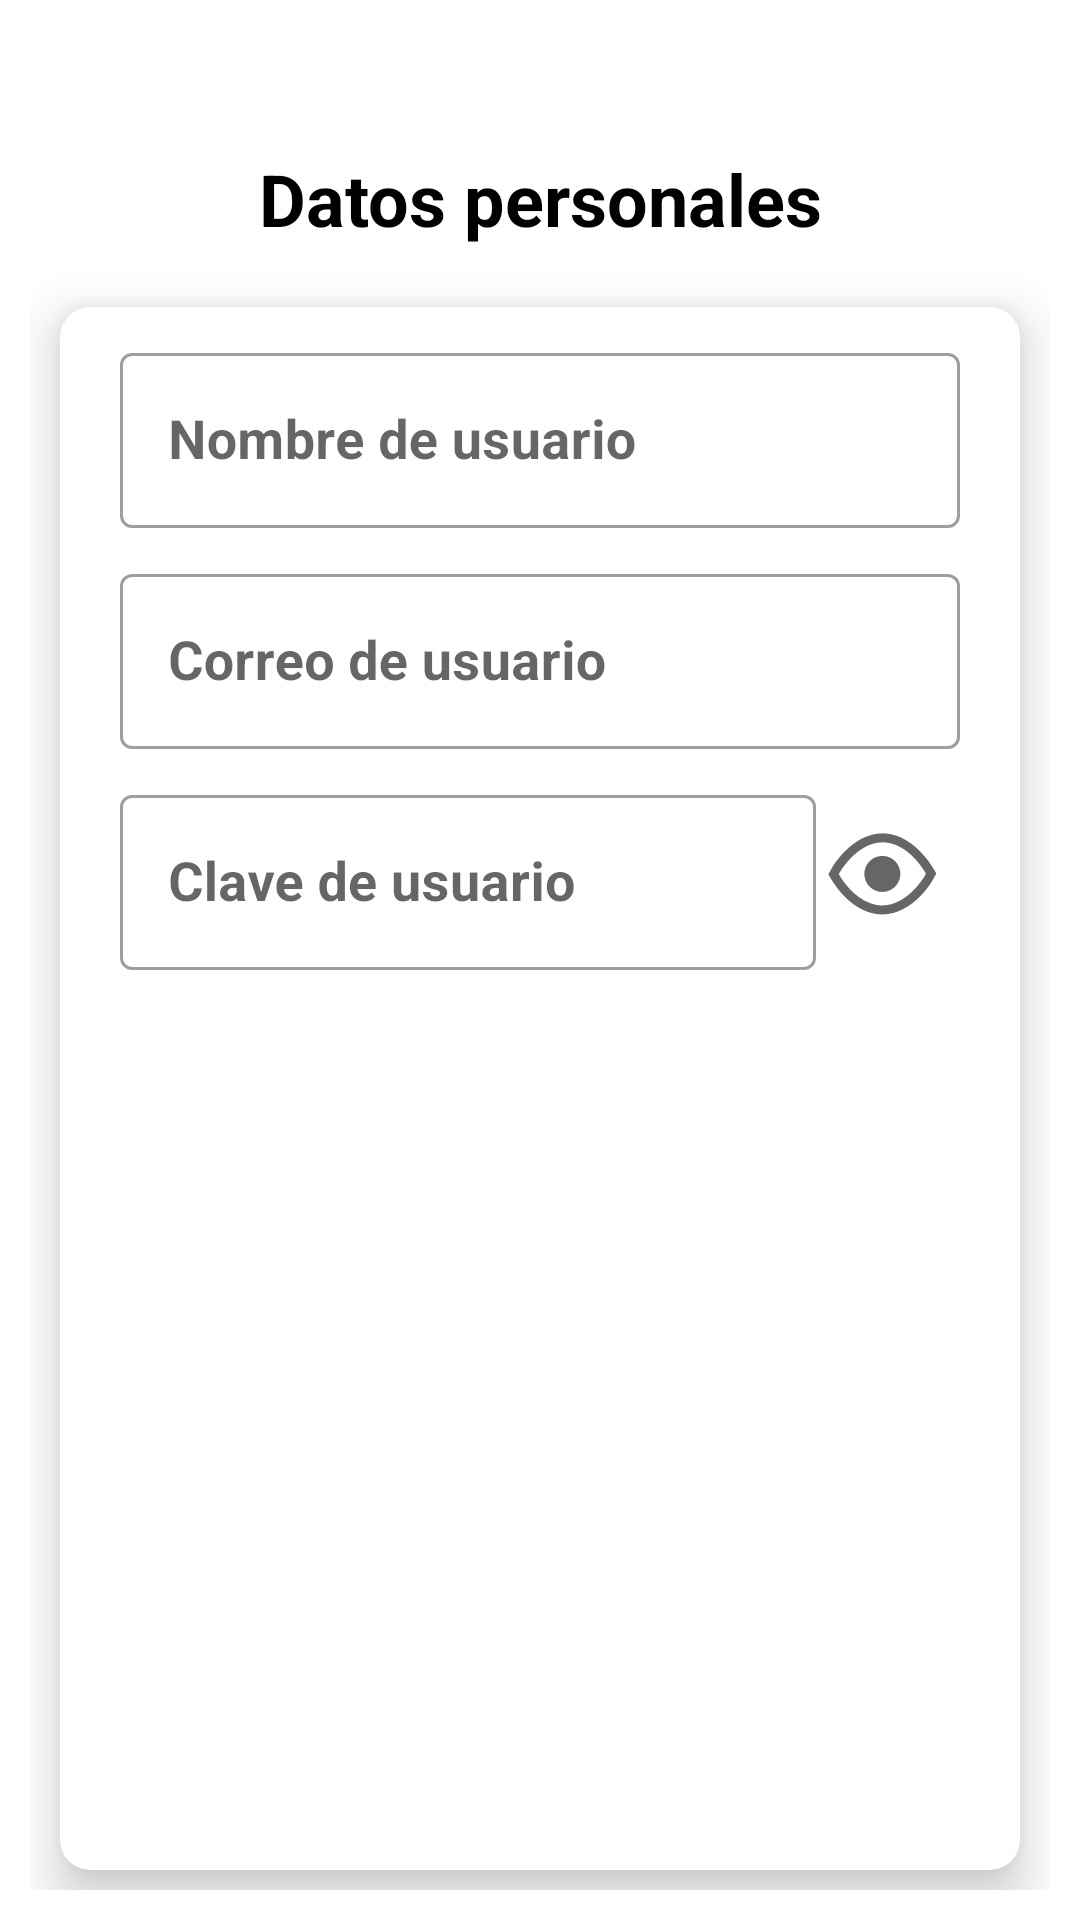

Named icons in this screenshot (1080*1920) and their bounding boxes, bbox=(x1, y1, x2, y2):
Ver clave: bbox=(828, 833, 936, 915)
